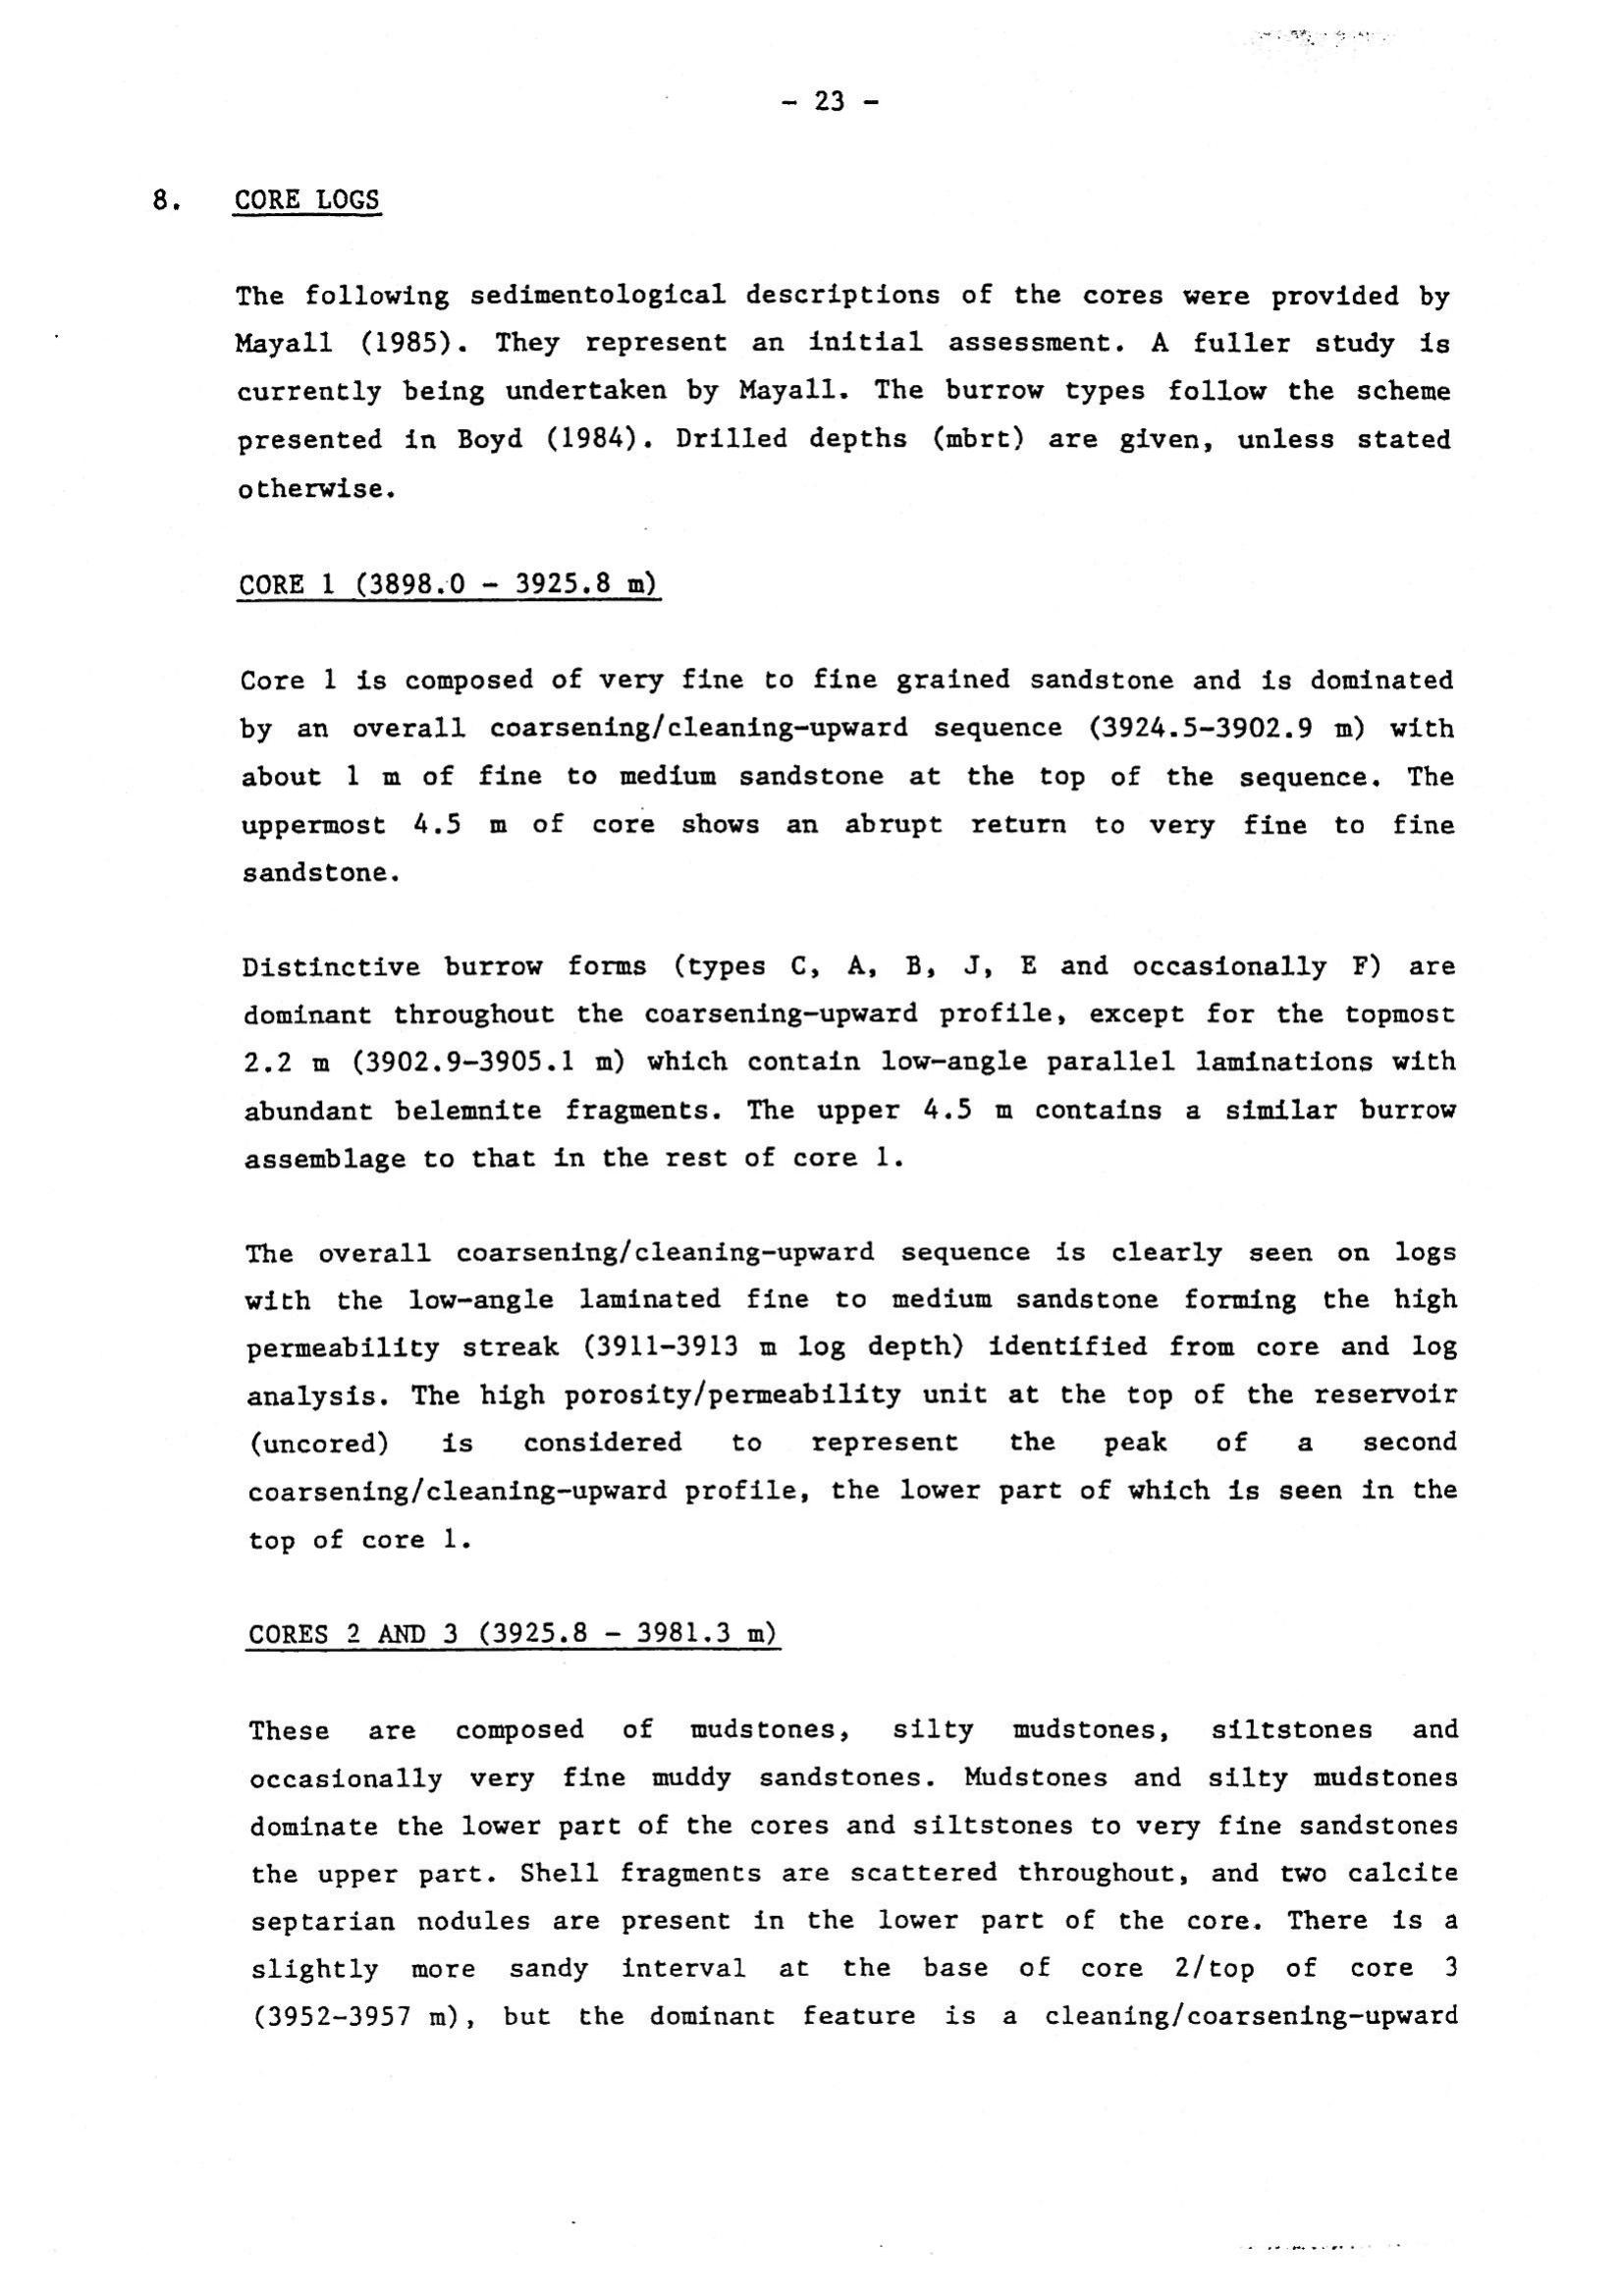text: (133, 163, 1537, 2090)
